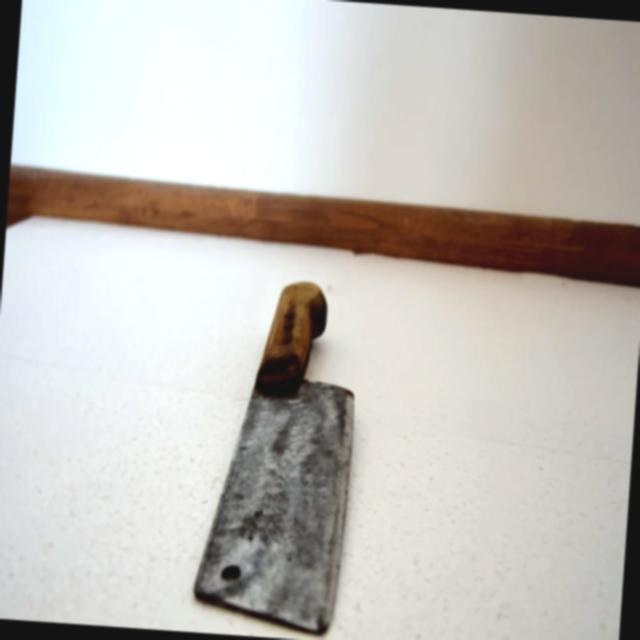cleaver: (195, 277, 362, 634)
